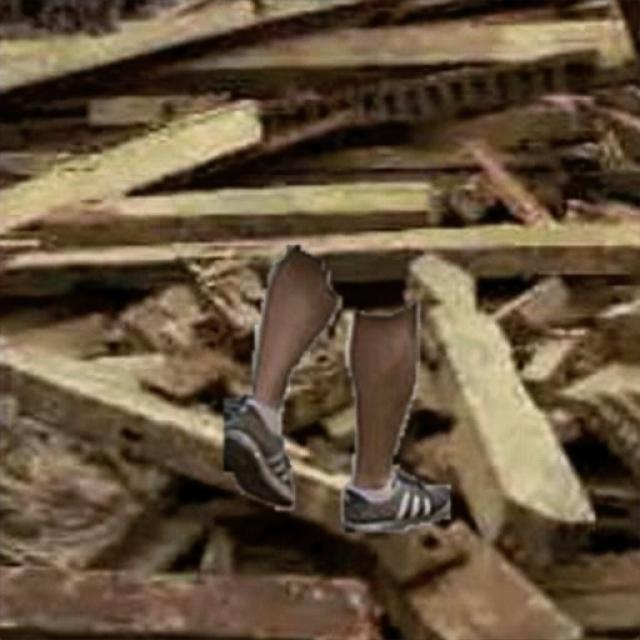Person in Rubble: (224, 245, 450, 531)
